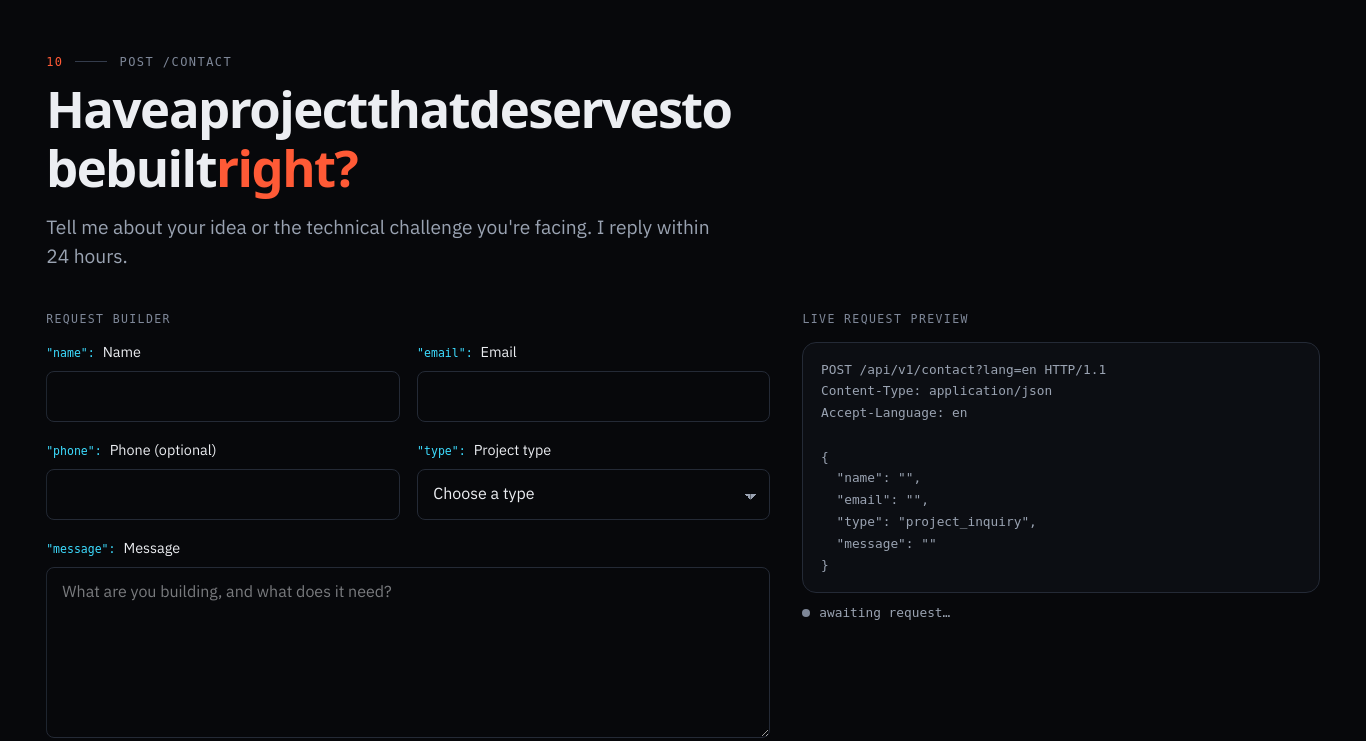
Scenario: Contact request builder › says "try again shortly" on 429 and keeps what was typed
This screenshot has width=1366, height=741.
Type "Sample Person" into the field labelled "\"name\": Name". click: {"x": 223, "y": 396}
box: [46,371,400,422]
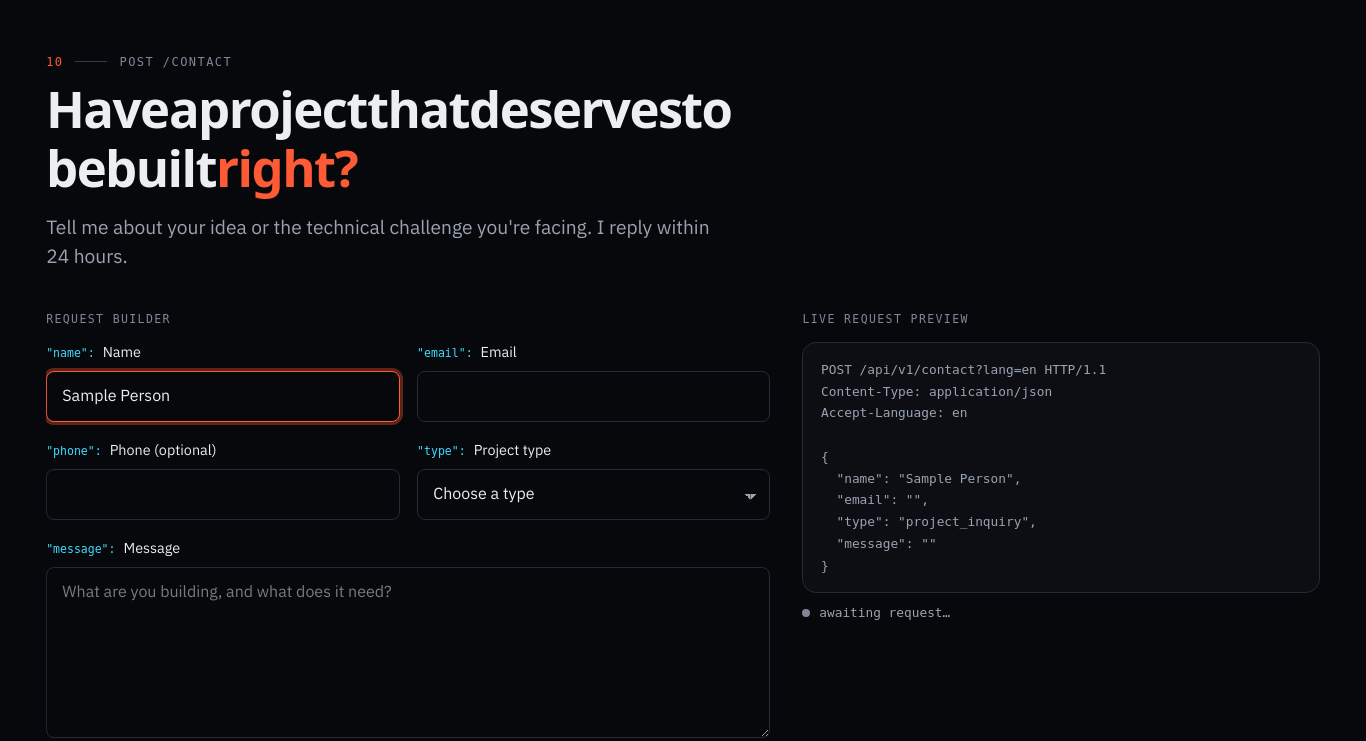
Type "person@example.com" into the field labelled "\"email\": Email". click: {"x": 594, "y": 396}
box: [417,371,770,422]
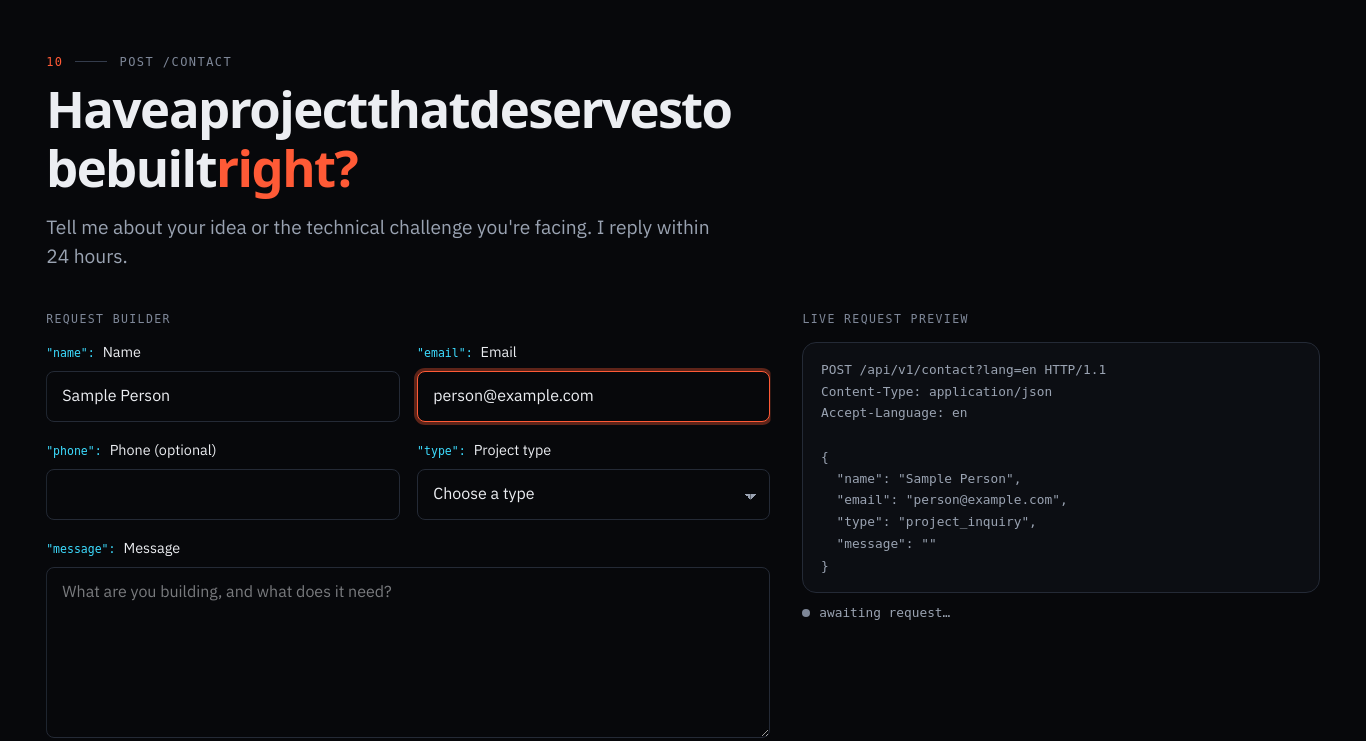
Select "API design & development" in the dropdown labelled "\"type\": Project type". click: {"x": 594, "y": 494}
box: [417,469,770,520]
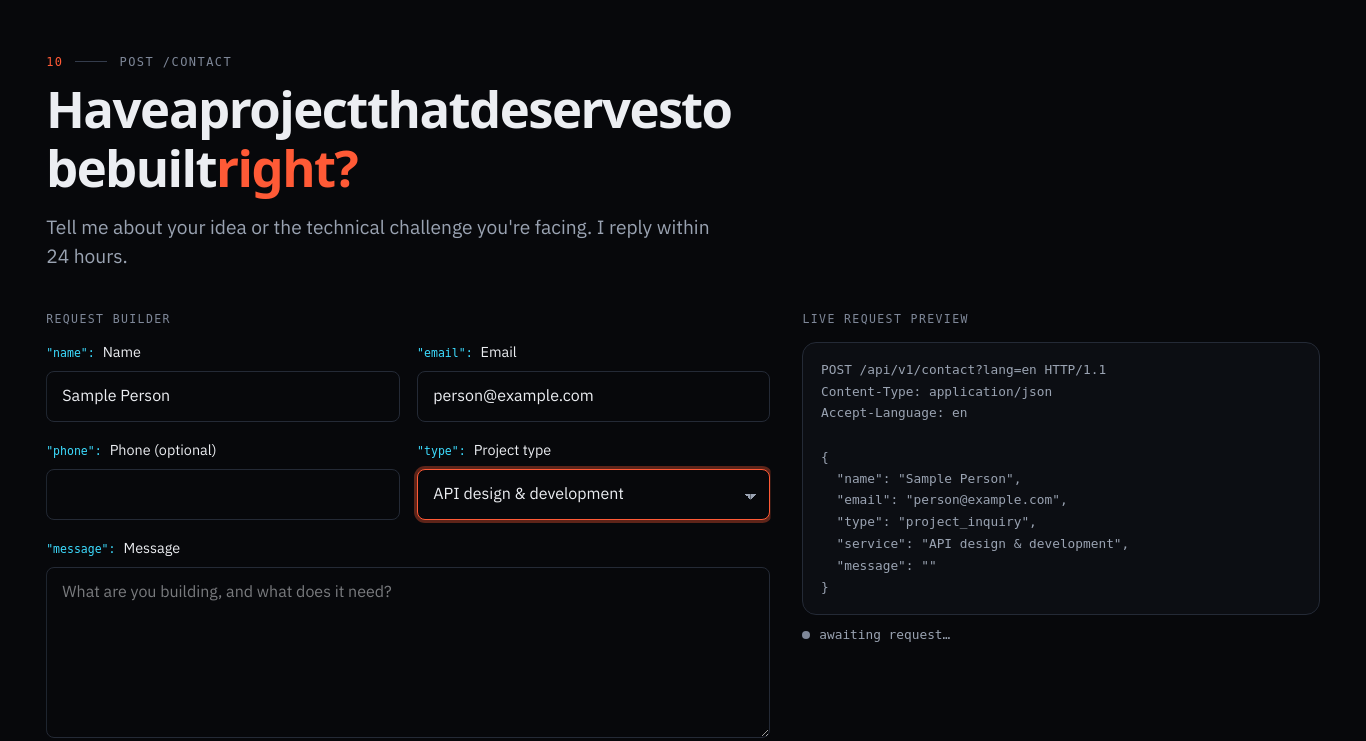
Type "We need a documented REST API." into the text box labelled "\"message\": Message". click: {"x": 408, "y": 652}
box: [46,567,770,738]
(page scrolled)
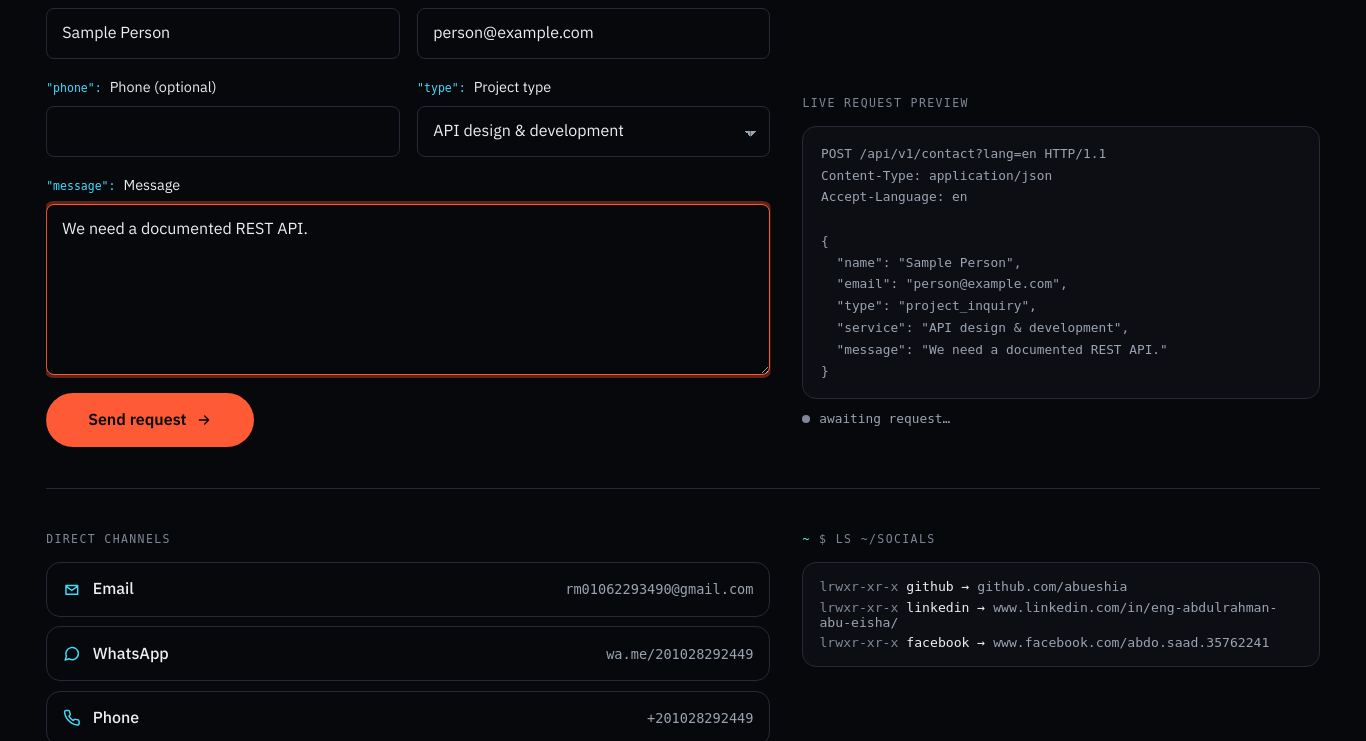
Click the button "Send request". click: {"x": 150, "y": 420}
box: [46,393,254,447]
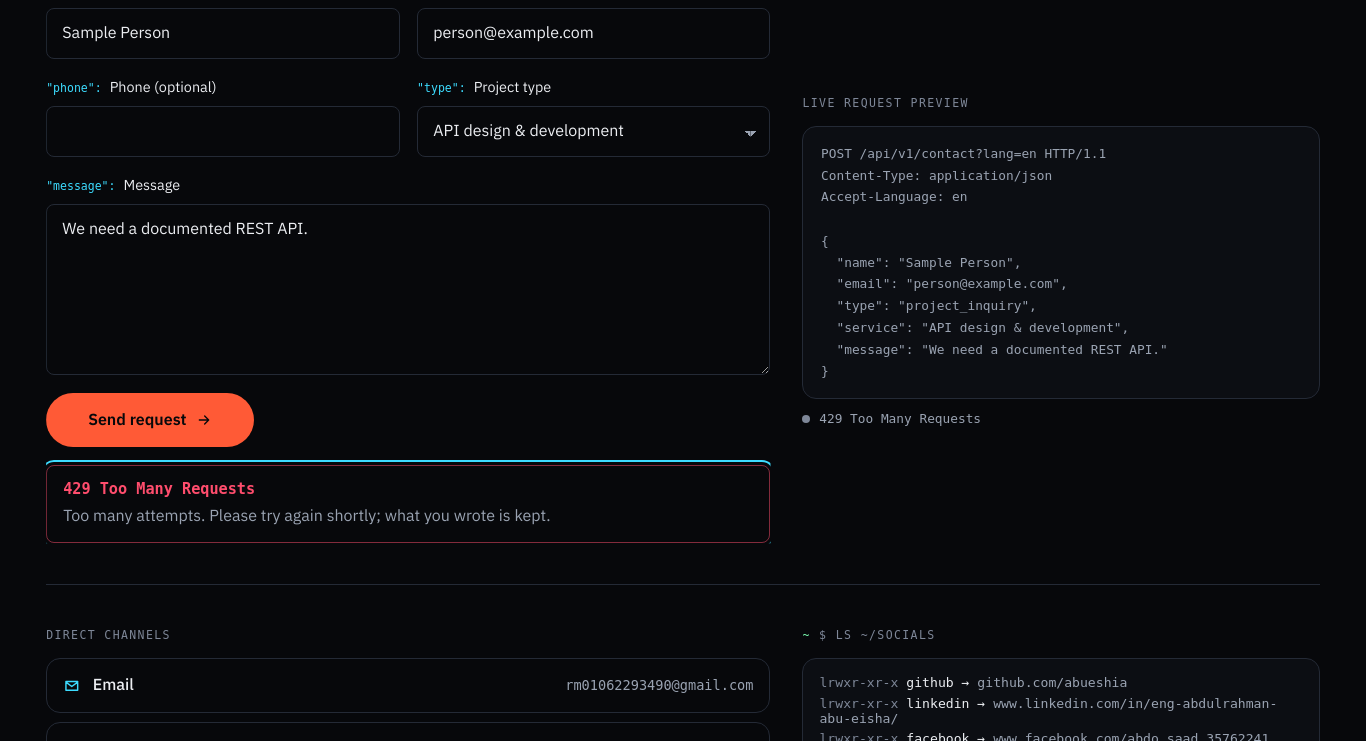
Expected: the message that starts with "429 Too Many Requests" shows "try again shortly", [63,504,550,528]
